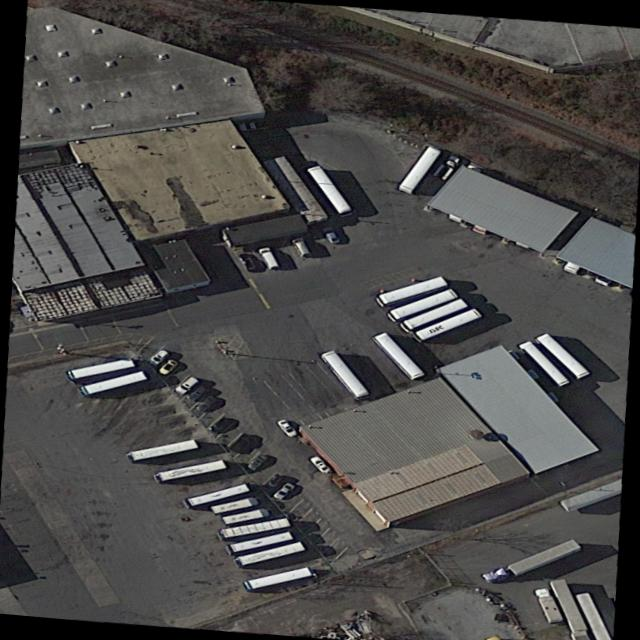large-vehicle: (481, 537, 580, 582), (530, 331, 592, 379), (371, 330, 426, 379), (319, 348, 370, 400), (306, 163, 353, 215), (517, 339, 569, 386), (384, 287, 457, 320), (397, 297, 467, 330), (412, 306, 482, 339), (373, 275, 448, 305), (395, 144, 440, 192), (76, 369, 148, 394), (231, 540, 305, 564), (151, 458, 227, 481), (241, 565, 312, 589), (64, 355, 135, 379), (126, 437, 199, 460), (182, 481, 249, 506), (225, 529, 294, 552), (216, 516, 289, 537), (533, 585, 563, 622), (208, 495, 258, 512), (220, 506, 269, 523)
small-vehicle: (430, 152, 464, 180), (183, 382, 211, 402), (173, 374, 201, 394), (274, 416, 299, 438), (156, 356, 182, 377), (257, 244, 278, 269), (228, 431, 253, 452), (307, 453, 332, 474), (236, 250, 259, 272), (146, 346, 172, 365), (259, 472, 285, 491), (193, 393, 218, 412), (245, 451, 269, 470), (291, 236, 312, 257), (319, 223, 341, 243), (208, 414, 231, 433), (272, 481, 296, 499)
